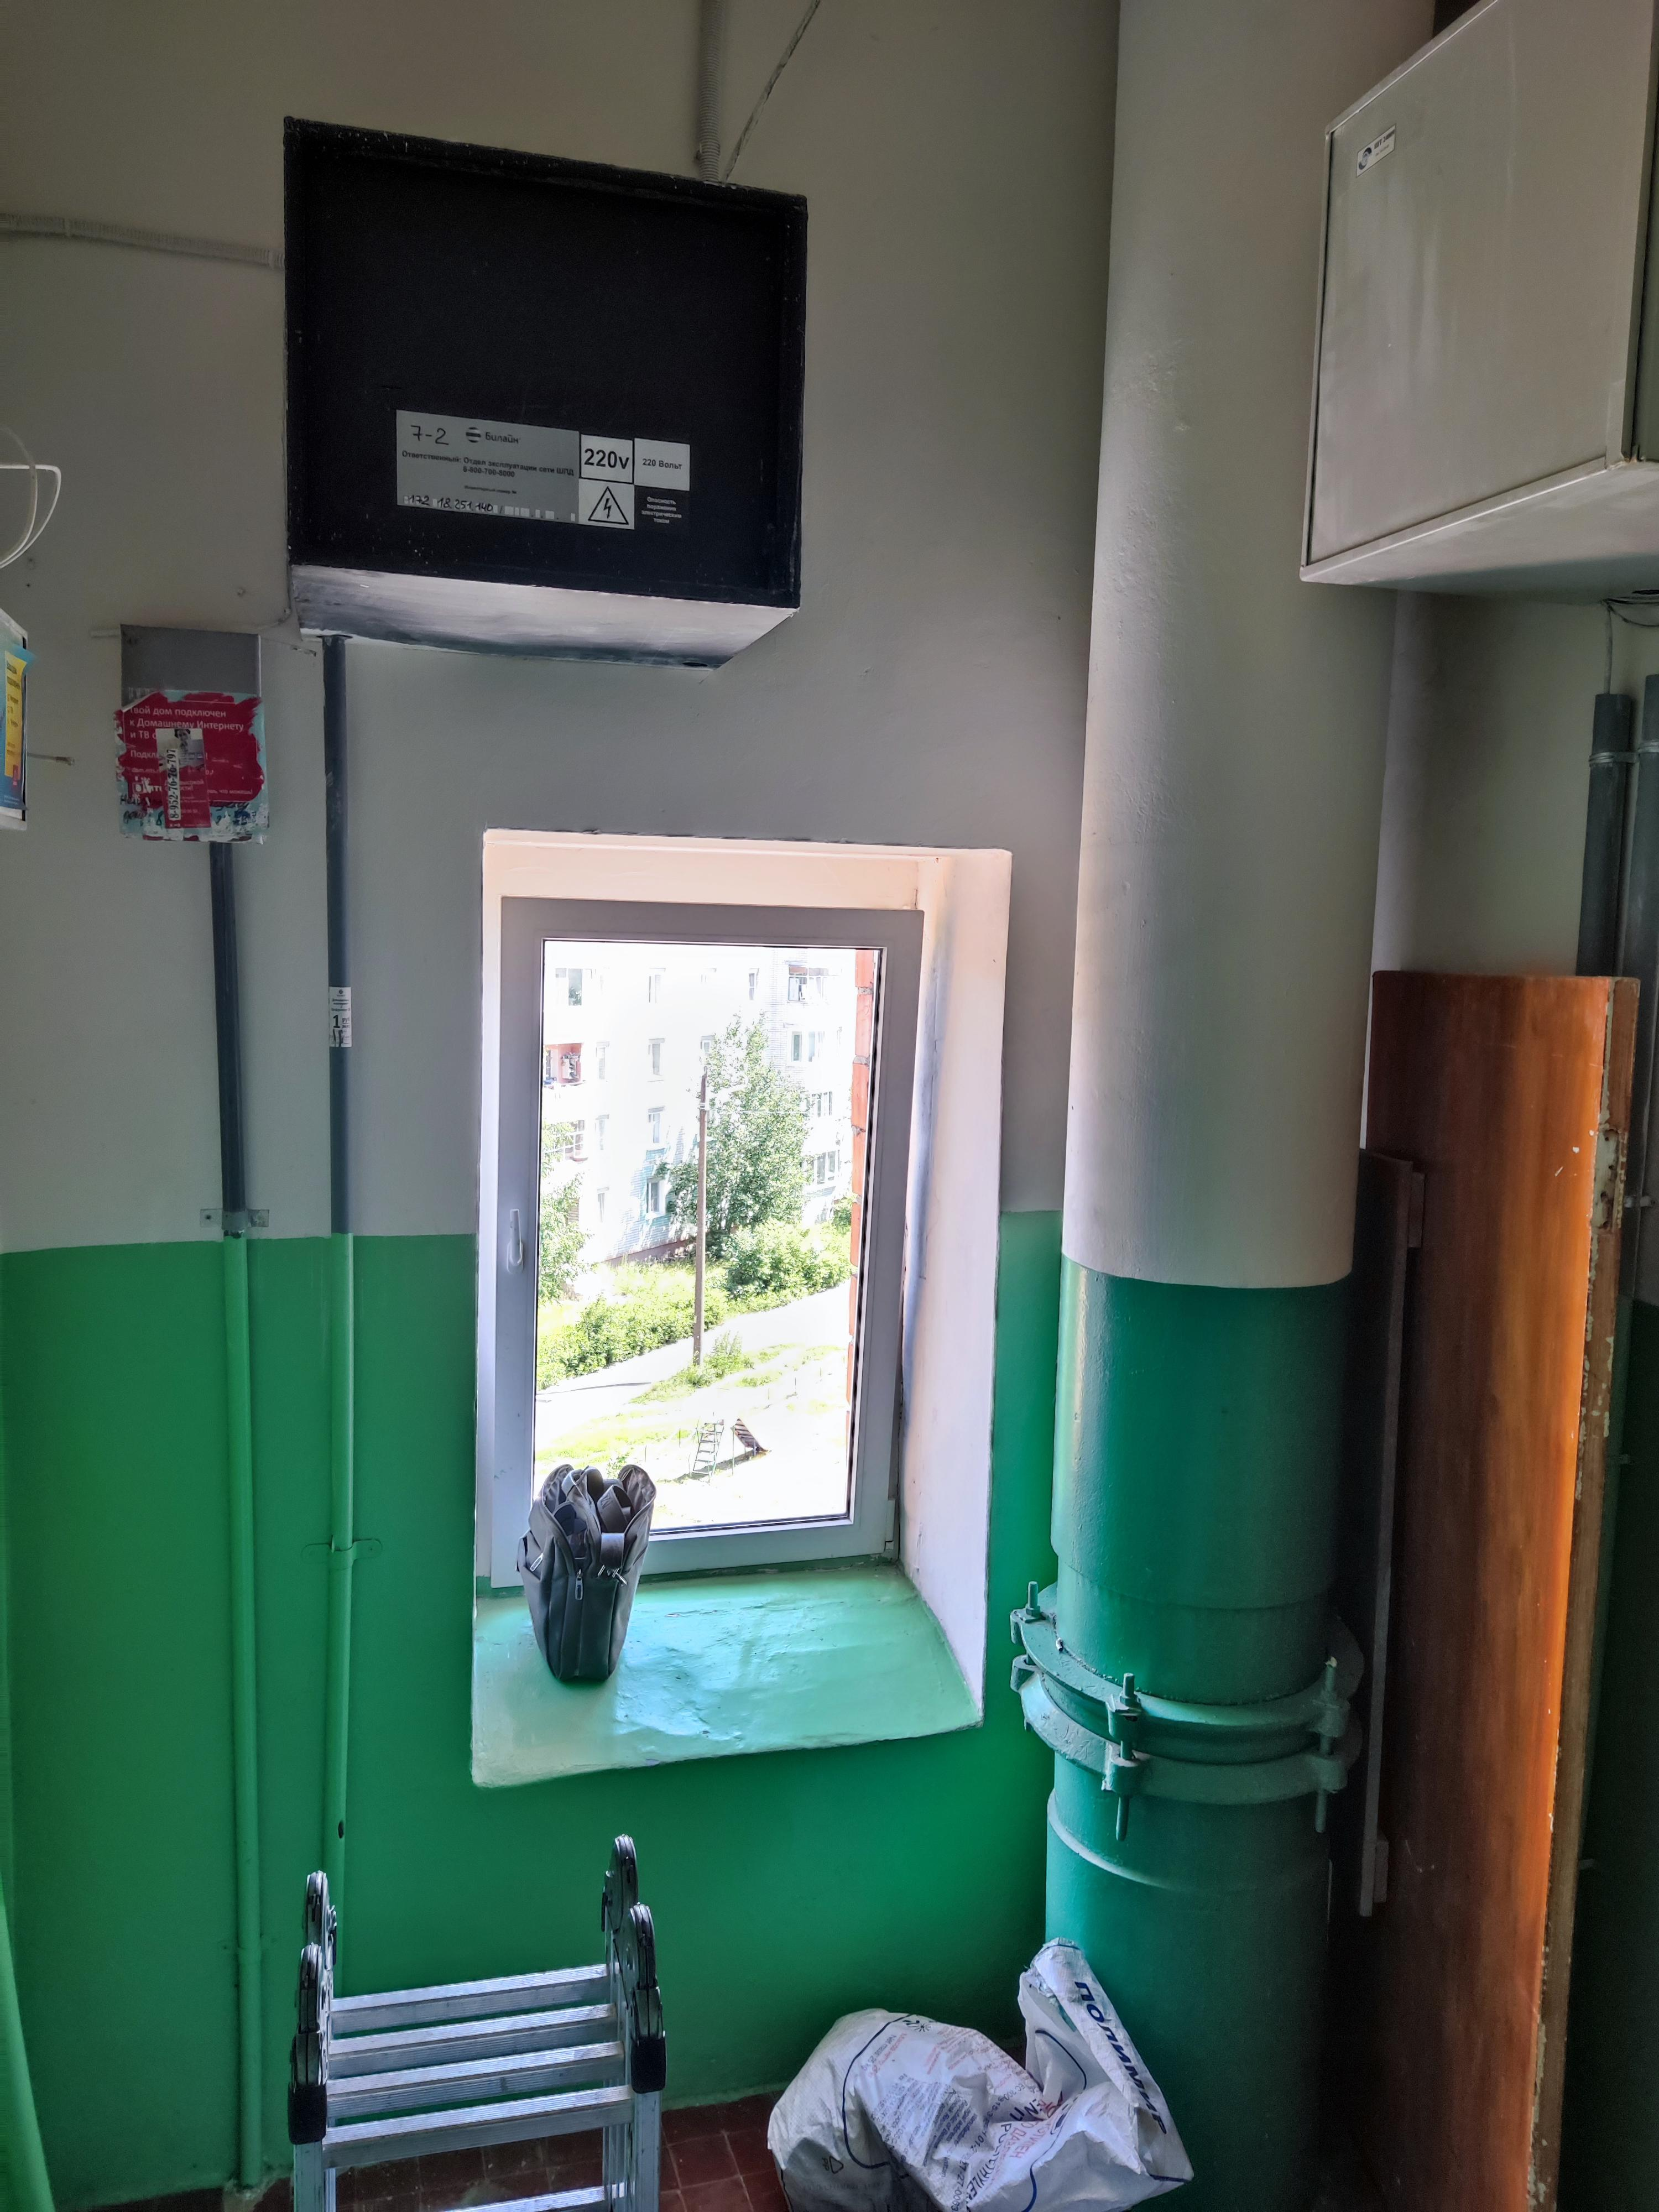shta-9m: (279, 111, 812, 674)
